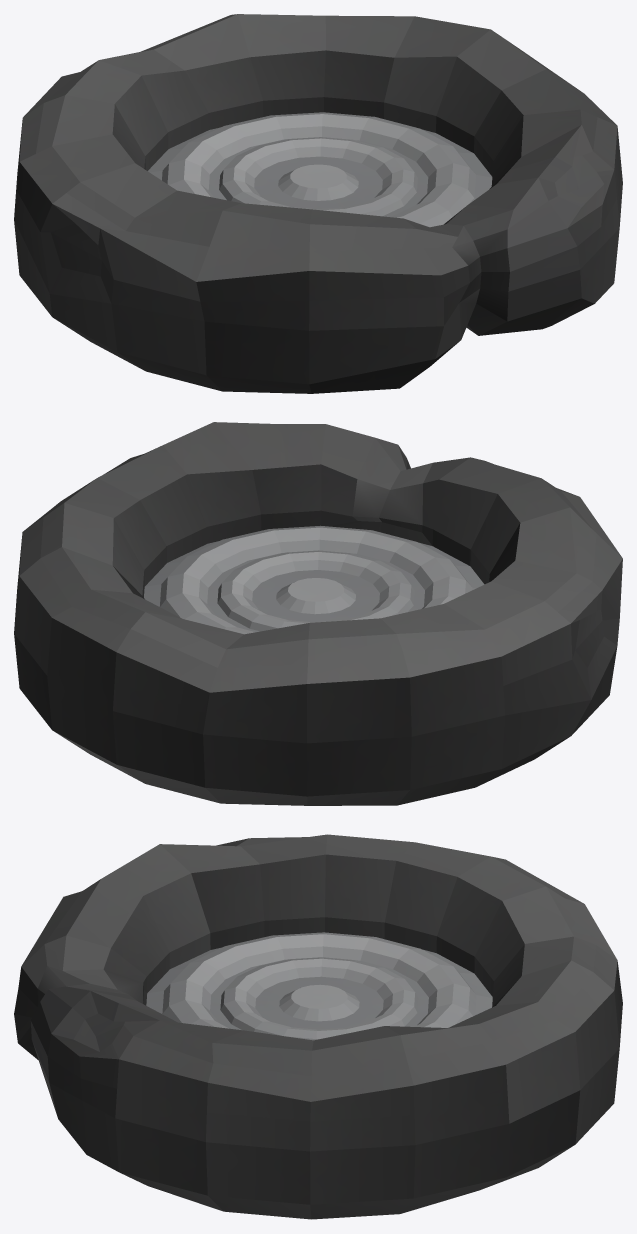
File: car_wheel.glb
3 views of the same model, one above another, from view 1: azimuth 30°, elevation 25°; view 2: azimuth 150°, elevation 25°; view 3: azimuth 270°, elevation 25° (orthographic).
Parts seen in each view (by area): view 1: car_wheel; view 2: car_wheel; view 3: car_wheel.
Boxes of the visible parts, x1,y1,x2,y2 form: car_wheel: (14,14,622,393); car_wheel: (14,422,622,805); car_wheel: (14,834,622,1219).
Bounding box in the file's own units: 0.8315 × 0.2674 × 0.8155.
1 material, 1 textured.
